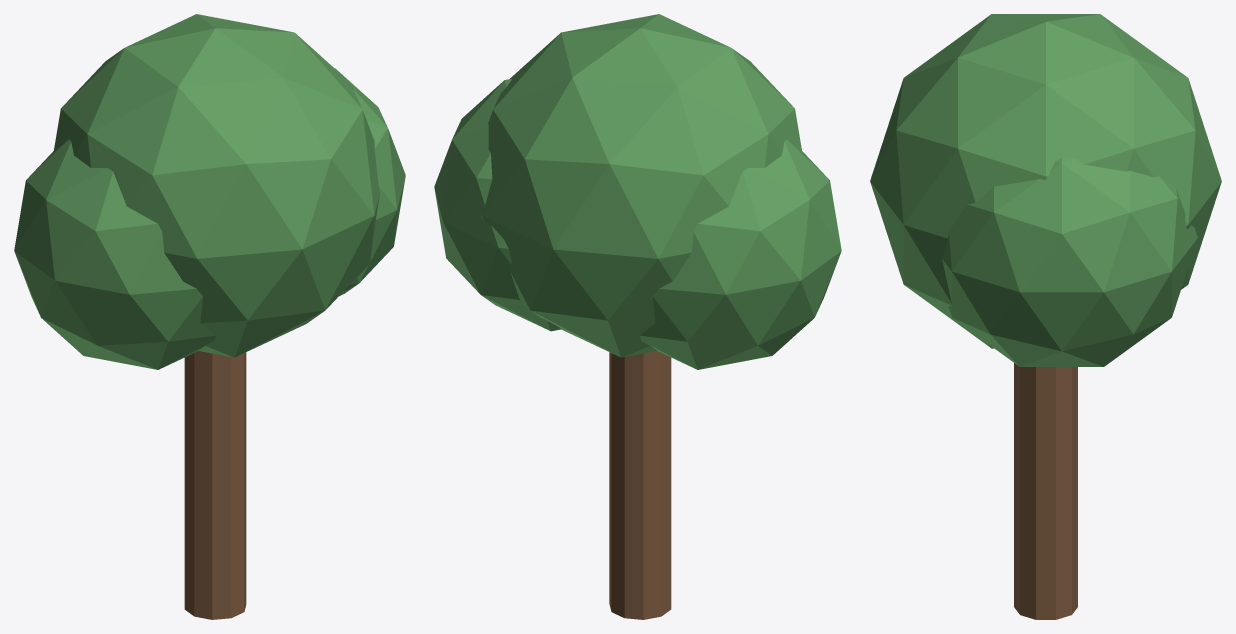
File: tree.glb
3 renders of one model, left to right at view 1: azimuth 30°, elevation 25°; view 2: azimuth 150°, elevation 25°; view 3: azimuth 270°, elevation 25°, orthographic.
Visible parts, largest first — view 1: Tree canopy, Tree canopy.001, Tree trunk, Tree canopy.002; view 2: Tree canopy, Tree canopy.001, Tree trunk, Tree canopy.002; view 3: Tree canopy, Tree canopy.002, Tree trunk.
Boxes of the visible parts, x1=… form: Tree canopy: x1=53, y1=14, x2=379, y2=357; Tree canopy.001: x1=14, y1=139, x2=215, y2=369; Tree trunk: x1=184, y1=351, x2=246, y2=619; Tree canopy.002: x1=335, y1=68, x2=405, y2=296; Tree canopy: x1=481, y1=14, x2=802, y2=357; Tree canopy.001: x1=639, y1=139, x2=841, y2=369; Tree trunk: x1=609, y1=351, x2=671, y2=619; Tree canopy.002: x1=434, y1=79, x2=561, y2=331; Tree canopy: x1=870, y1=14, x2=1221, y2=348; Tree canopy.002: x1=942, y1=157, x2=1197, y2=366; Tree trunk: x1=1014, y1=363, x2=1077, y2=619.
Size of the model in its own units: 2.09 by 3.23 by 1.76.
